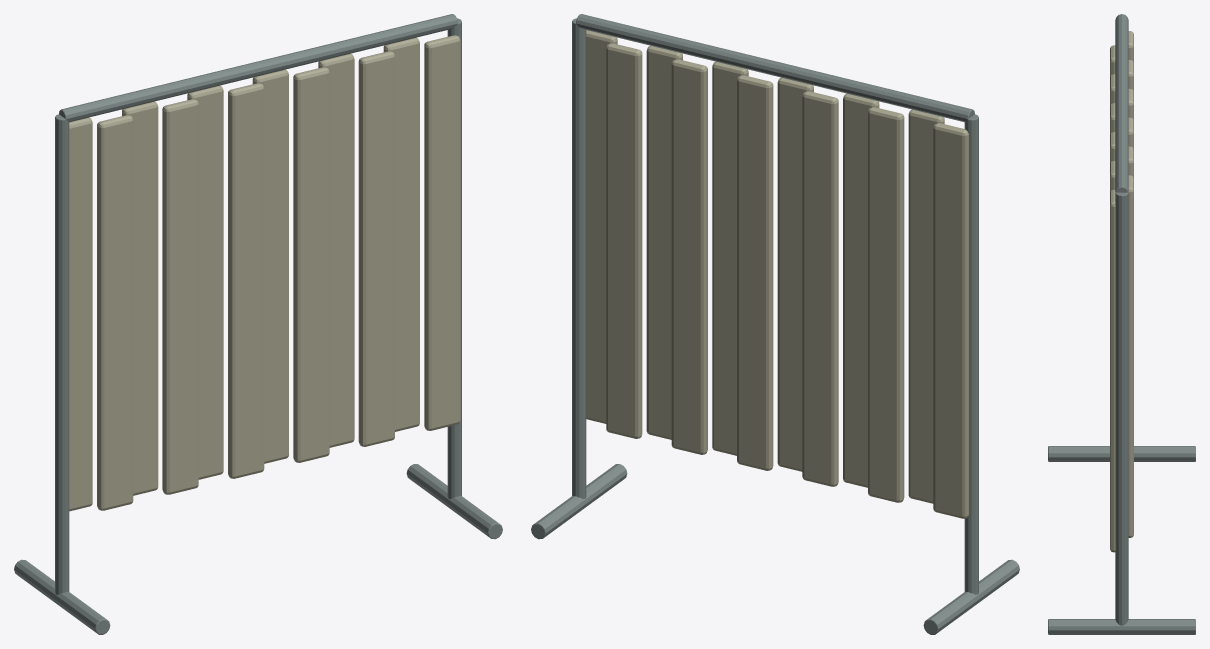
The model's file is H_PrivacyScreen.fbx.
The picture shows the model from 3 angles, left to right: view 1: azimuth 30°, elevation 25°; view 2: azimuth 150°, elevation 25°; view 3: azimuth 270°, elevation 25°; orthographic projection. The views are drawn at different scales.
Parts seen in each view (by area): view 1: H_PrivacyScreen; view 2: H_PrivacyScreen; view 3: H_PrivacyScreen.
Boxes of the visible parts, <box> form: H_PrivacyScreen: <box>14,14,502,634</box>; H_PrivacyScreen: <box>531,14,1019,634</box>; H_PrivacyScreen: <box>1048,14,1195,634</box>.
Size of the model in its own units: 1.5 by 1.74 by 0.52.
